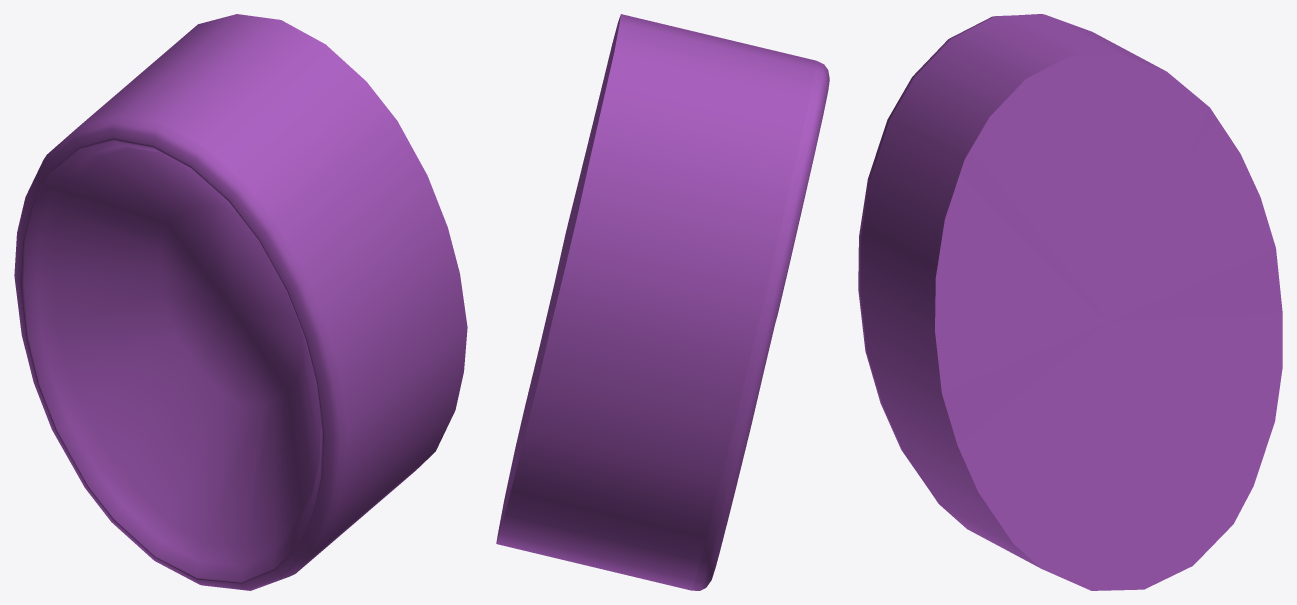
Rendered from TL4_8shapes_Oval_Classic_Metal.001 3.glb.
3 views of the same model, side by side, from view 1: azimuth 30°, elevation 25°; view 2: azimuth 150°, elevation 25°; view 3: azimuth 270°, elevation 25° (orthographic). The views are drawn at different scales.
Parts seen in each view (by area): view 1: TL4_8shapes_Oval_Classic_Metal.001; view 2: TL4_8shapes_Oval_Classic_Metal.001; view 3: TL4_8shapes_Oval_Classic_Metal.001.
Part boxes in pixels (<box>): TL4_8shapes_Oval_Classic_Metal.001: <box>14,14,467,590</box>; TL4_8shapes_Oval_Classic_Metal.001: <box>496,14,829,590</box>; TL4_8shapes_Oval_Classic_Metal.001: <box>858,14,1282,590</box>.
Bounding box in the file's own units: 0.4223 × 0.6498 × 0.4725.
